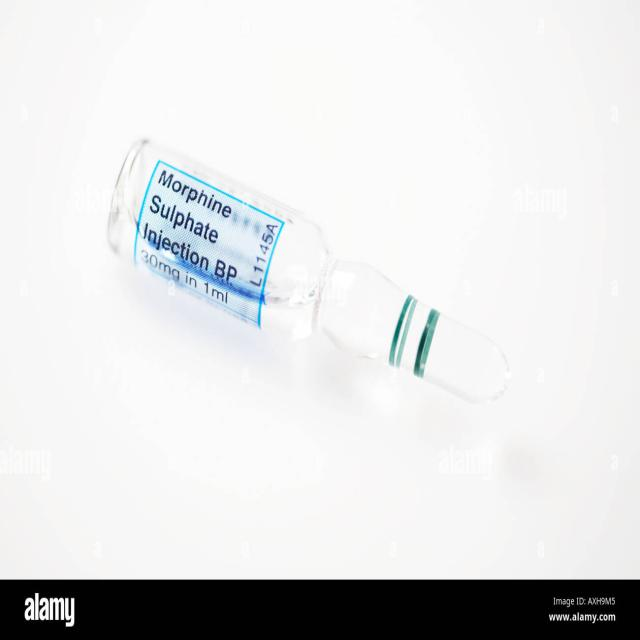B3: (97, 132, 530, 428)
